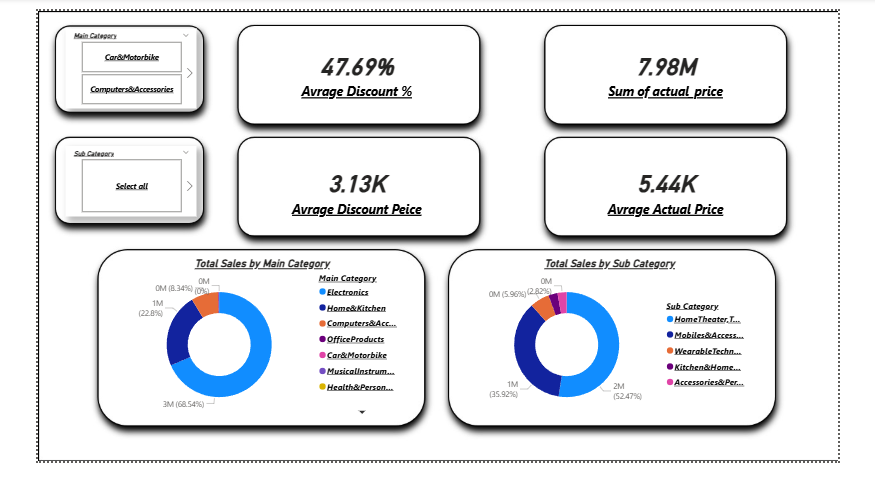

The page's visual inventory and layout, read from the dashboard file:
{"tool":"powerbi","page":{"name":"Categories Analysis","canvas":[1280,720],"ordinal":3},"visuals":[{"type":"image","box":[0,0,1280.3,720.4],"z":0},{"type":"slicer","fields":{"Values":["amazon.Main Category"]},"box":[43.9,28.8,209.9,127.6],"z":1000},{"type":"slicer","fields":{"Values":["amazon.Sub Category"]},"box":[43.9,215.4,209.9,112.5],"z":2000},{"type":"card","fields":{"Values":["amazon.Avrage Discount %"]},"box":[337.6,28.8,344.4,141.3],"z":3000},{"type":"card","fields":{"Values":["Sum(amazon.actual_price)"]},"box":[832.9,28.8,344.4,141.3],"z":4000},{"type":"card","fields":{"Values":["amazon.Avrage Discount Peice"]},"box":[337.6,215.4,344.4,141.3],"z":5000},{"type":"card","fields":{"Values":["amazon.Avrage Actual Price"]},"box":[832.9,215.4,344.4,141.3],"z":6000},{"type":"donutChart","fields":{"Category":["amazon.Main Category"],"Y":["amazon.Total Sales"]},"box":[126.2,393.8,465.2,260.7],"z":7000},{"type":"donutChart","fields":{"Category":["amazon.Sub Category"],"Y":["amazon.Total Sales"]},"box":[682,393.8,465.2,260.7],"z":8000}]}

Visuals, with their boxes in screenshot pixels (x1, y1, x2, y2), scaled from the page's 1280x720 canvas onto the 875x485 screenshot:
image: <box>0,0,874,484</box>
slicer - amazon.Main Category: <box>30,19,173,105</box>
slicer - amazon.Sub Category: <box>30,145,173,221</box>
card - amazon.Avrage Discount %: <box>231,19,466,115</box>
card - Sum(amazon.actual_price): <box>569,19,805,115</box>
card - amazon.Avrage Discount Peice: <box>231,145,466,240</box>
card - amazon.Avrage Actual Price: <box>569,145,805,240</box>
donutChart - amazon.Main Category x amazon.Total Sales: <box>86,265,404,441</box>
donutChart - amazon.Sub Category x amazon.Total Sales: <box>466,265,784,441</box>
